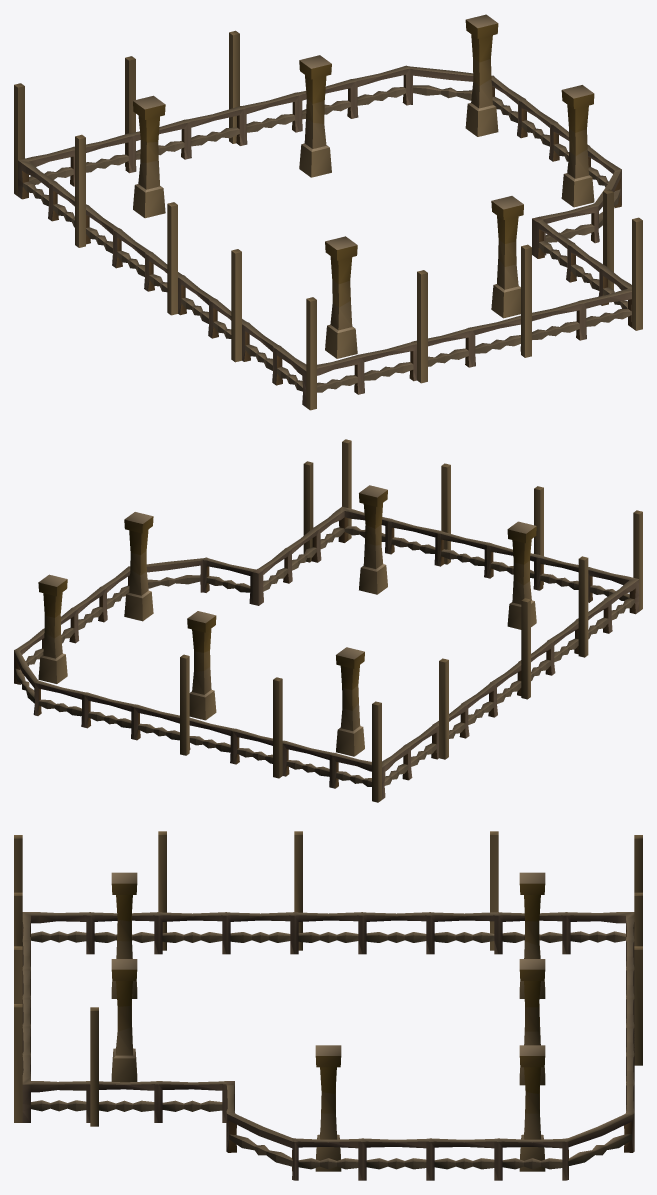
The model's file is SM_TutorialIsland_A_RoofDecor.fbx.
The picture shows the model from 3 angles, top to bottom: view 1: azimuth 30°, elevation 25°; view 2: azimuth 150°, elevation 25°; view 3: azimuth 270°, elevation 25°; orthographic projection. The views are drawn at different scales.
Parts seen in each view (by area): view 1: SM_TutorialIsland_A_RoofDecor; view 2: SM_TutorialIsland_A_RoofDecor; view 3: SM_TutorialIsland_A_RoofDecor.
Part boxes in pixels (bbox=[...]): SM_TutorialIsland_A_RoofDecor: bbox=[14, 14, 642, 410]; SM_TutorialIsland_A_RoofDecor: bbox=[14, 439, 642, 802]; SM_TutorialIsland_A_RoofDecor: bbox=[14, 831, 642, 1180].
Bounding box in the file's own units: 812 × 188 × 925.
